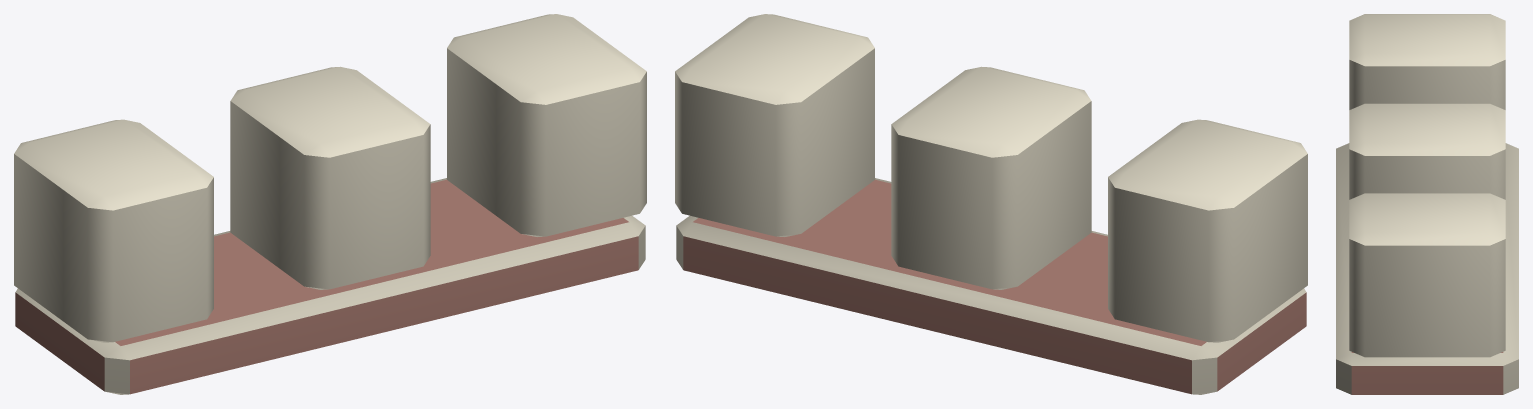
Rendered from gale_ram_teeth.glb.
The picture shows the model from 3 angles, left to right: view 1: azimuth 30°, elevation 25°; view 2: azimuth 150°, elevation 25°; view 3: azimuth 270°, elevation 25°; orthographic projection. The views are drawn at different scales.
Visible parts, largest first — view 1: gale_ram_teeth; view 2: gale_ram_teeth; view 3: gale_ram_teeth.
Part boxes in pixels (left/top/right/bottom): gale_ram_teeth: left=14, top=14, right=646, bottom=394; gale_ram_teeth: left=675, top=14, right=1307, bottom=394; gale_ram_teeth: left=1336, top=14, right=1518, bottom=394.
Bounding box in the file's own units: 0.03 × 0.01 × 0.01.
